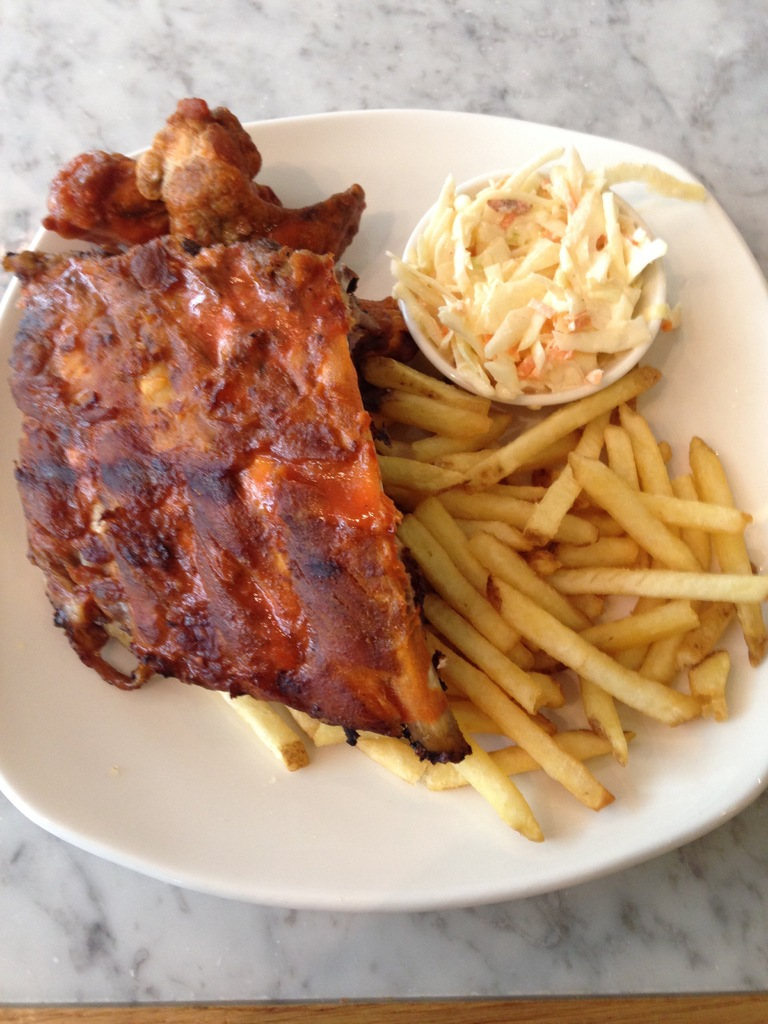French fries: (241, 382, 767, 836)
